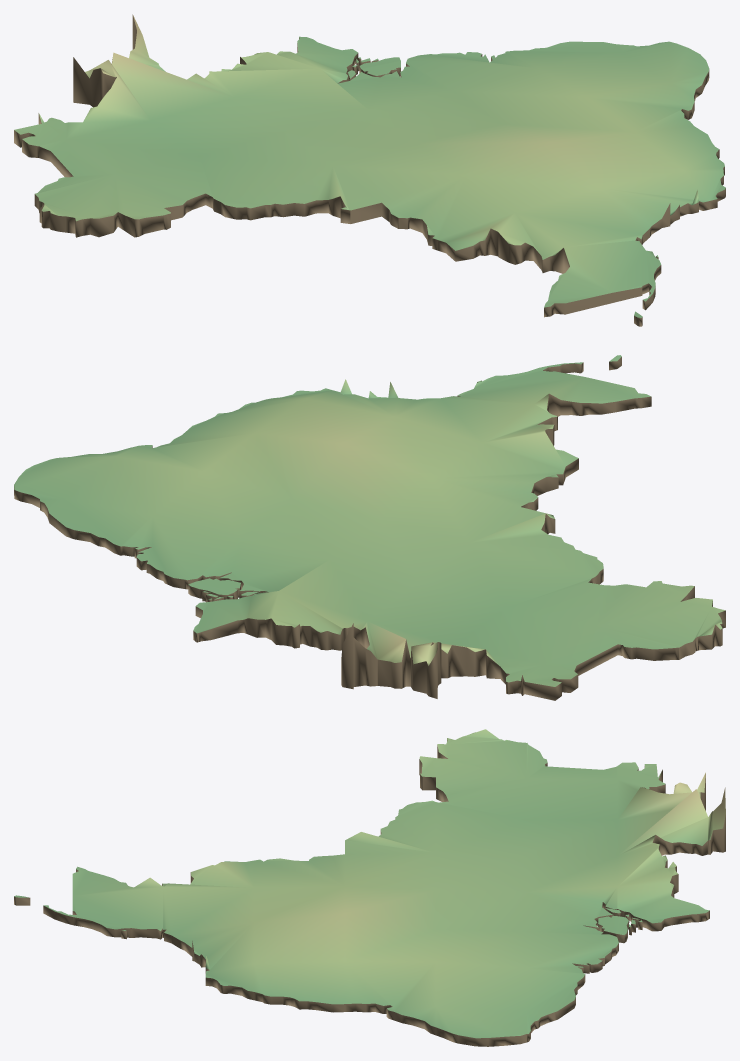
The model's file is BRA.glb.
3 views of the same model, one above another, from view 1: azimuth 30°, elevation 25°; view 2: azimuth 150°, elevation 25°; view 3: azimuth 270°, elevation 25° (orthographic). The views are drawn at different scales.
Visible parts, largest first — view 1: BRA; view 2: BRA; view 3: BRA.
Part boxes in pixels (x1,y1,x2,y2): BRA: [14, 14, 725, 326]; BRA: [14, 355, 725, 700]; BRA: [14, 729, 725, 1046].
Bounding box in the file's own units: 1.65 × 0.1525 × 1.66.
